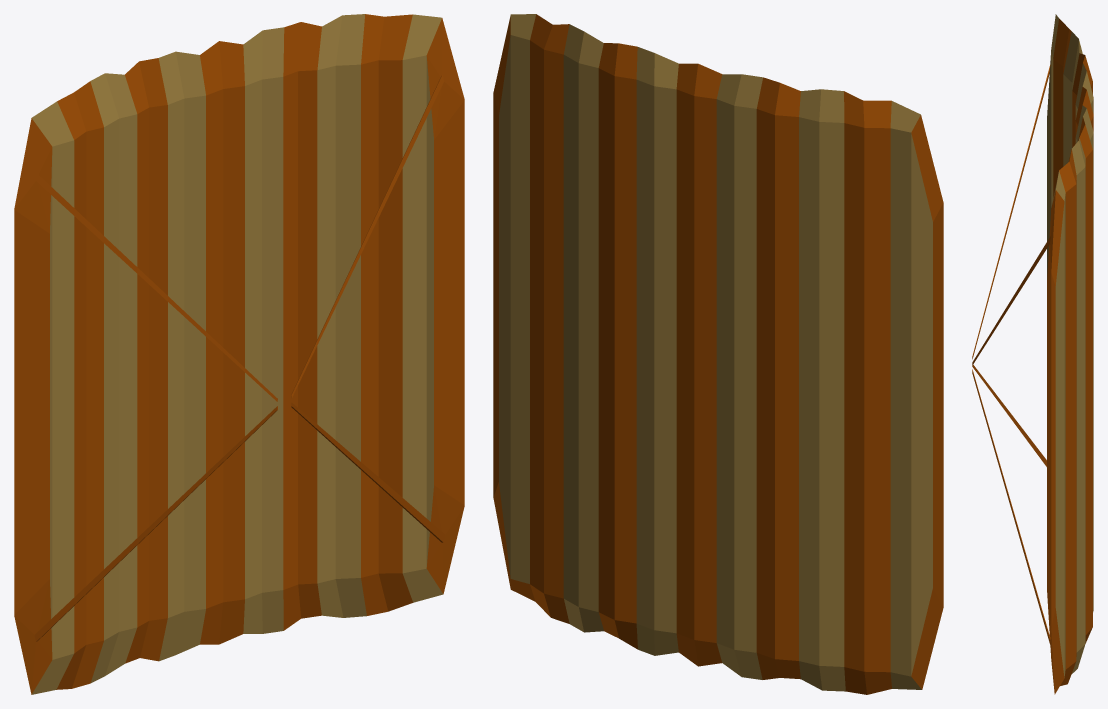
The model's file is paraquedas.fbx.
3 renders of one model, left to right at view 1: azimuth 30°, elevation 25°; view 2: azimuth 150°, elevation 25°; view 3: azimuth 270°, elevation 25°, orthographic. The views are drawn at different scales.
Parts seen in each view (by area): view 1: paraquedas.001; view 2: paraquedas.001; view 3: paraquedas.001.
Boxes of the visible parts, <box> form: paraquedas.001: <box>14,14,464,694</box>; paraquedas.001: <box>493,14,943,694</box>; paraquedas.001: <box>972,14,1093,694</box>.
Size of the model in its own units: 238 by 305 by 63.58.
